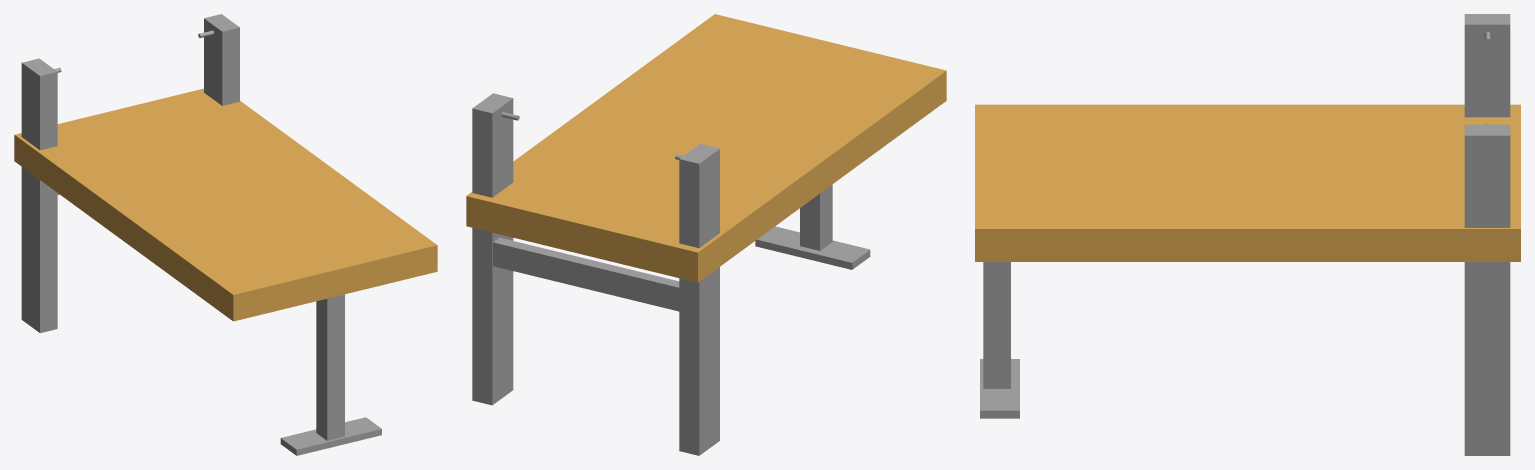
The model's file is benchpress01.fbx.
3 renders of one model, left to right at view 1: azimuth 30°, elevation 25°; view 2: azimuth 150°, elevation 25°; view 3: azimuth 270°, elevation 25°, orthographic. The views are drawn at different scales.
Visible parts, largest first — view 1: pCube10; view 2: pCube10; view 3: pCube10.
Part boxes in pixels (x1,y1,x2,y2): pCube10: (14, 14, 437, 455); pCube10: (466, 14, 946, 455); pCube10: (975, 14, 1520, 455).
Bounding box in the file's own units: 104 × 125 × 194.
